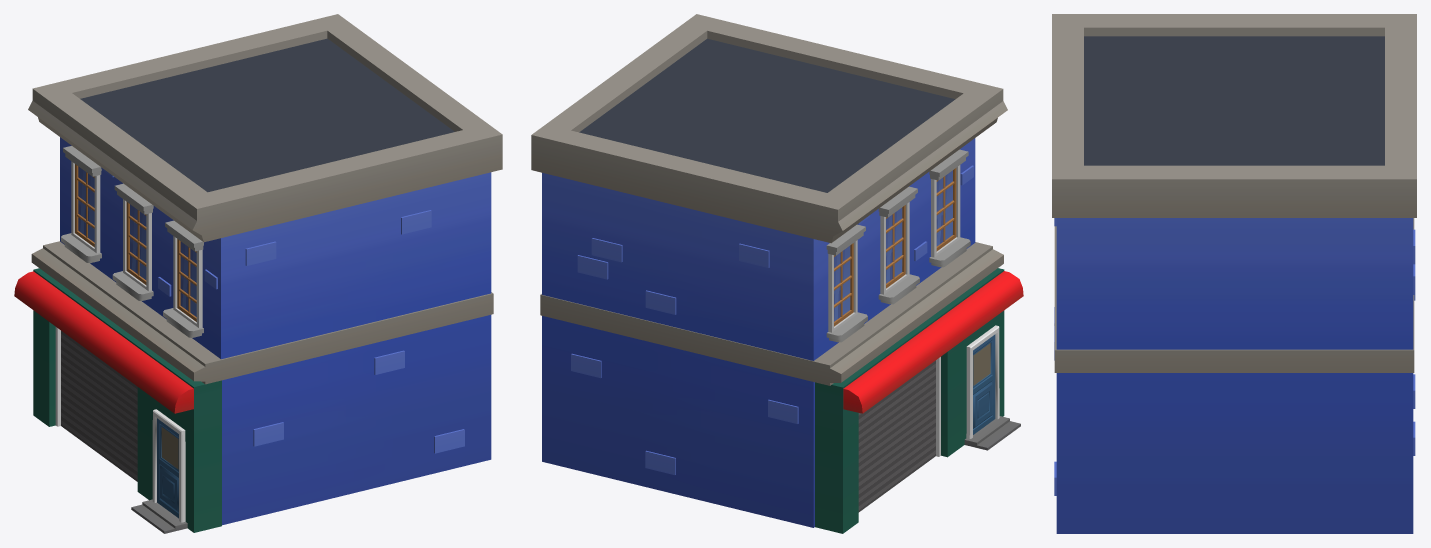
Rendered from Building_19_3_D.fbx.
3 views of the same model, side by side, from view 1: azimuth 30°, elevation 25°; view 2: azimuth 150°, elevation 25°; view 3: azimuth 270°, elevation 25° (orthographic). The views are drawn at different scales.
Parts seen in each view (by area): view 1: Building_19_3_D; view 2: Building_19_3_D; view 3: Building_19_3_D.
Part boxes in pixels (x1,y1,x2,y2): Building_19_3_D: (14, 14, 502, 533); Building_19_3_D: (531, 14, 1023, 533); Building_19_3_D: (1052, 14, 1416, 533).
Size of the model in its own units: 774 by 726 by 667.
